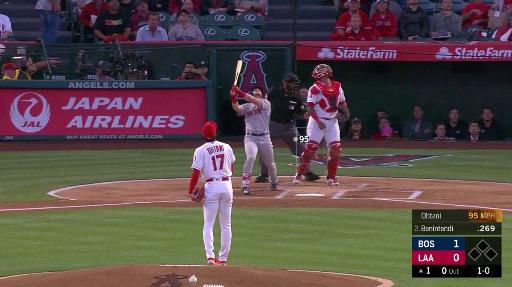pitcher: (188, 120, 238, 266)
